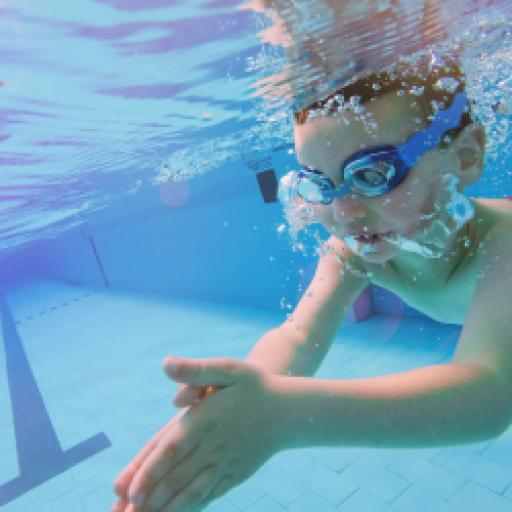swimming: (108, 51, 510, 510)
